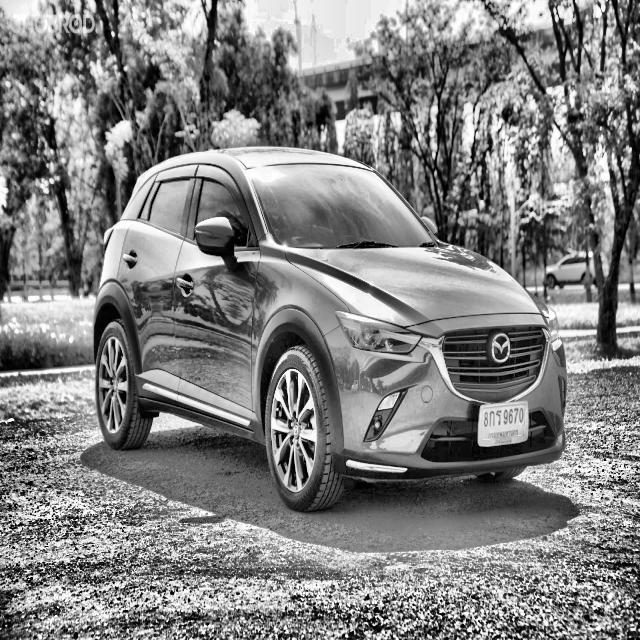license-plate: (473, 396, 539, 459)
